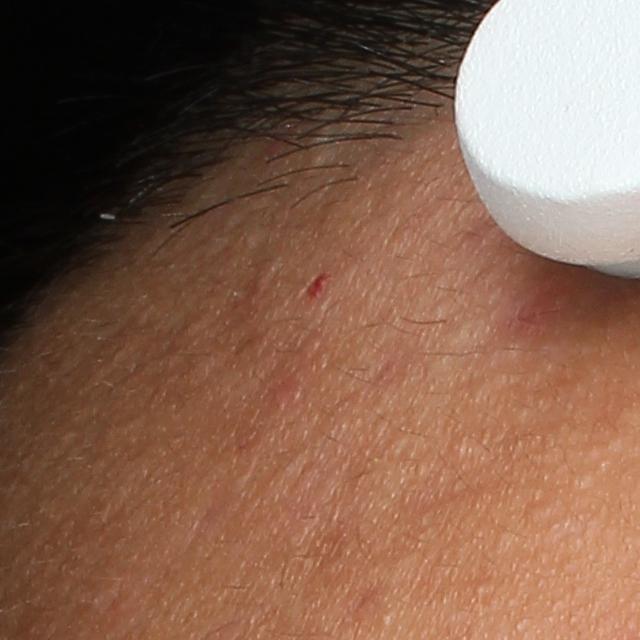comedo: (374, 610, 394, 630)
